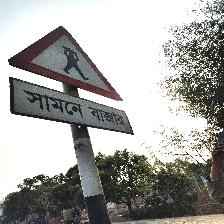Market-in-front: (7, 25, 133, 135)
